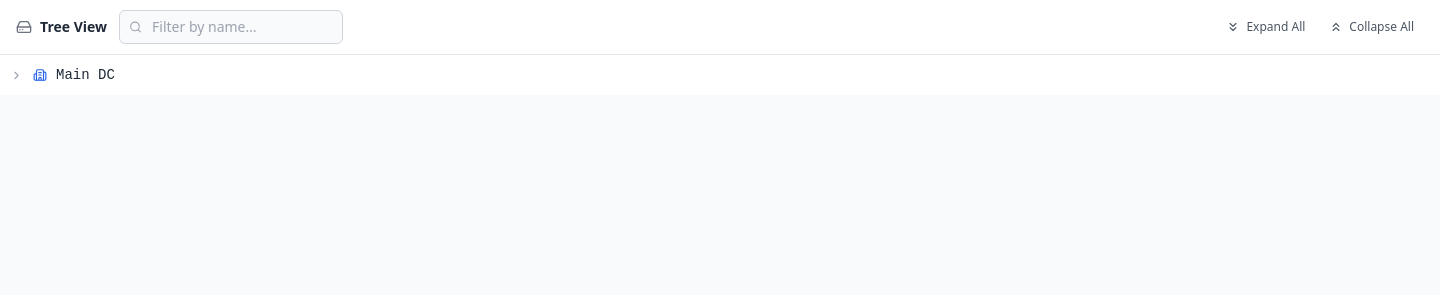
Test: TreeView page › lazy-loads interfaces and VMs when a server device is expanded
expect the text "Main DC" is shown: met, box [56, 67, 115, 83]
Click the button named "Expand" at (16, 75), box [6, 65, 26, 85]
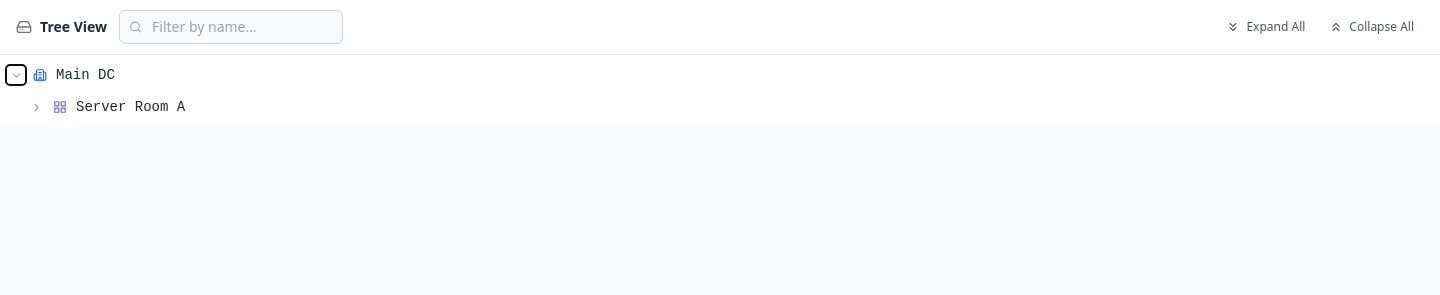
expect the text "Server Room A" is shown: met, box [76, 99, 185, 115]
Click the button named "Expand" at (36, 107), box [26, 97, 46, 117]
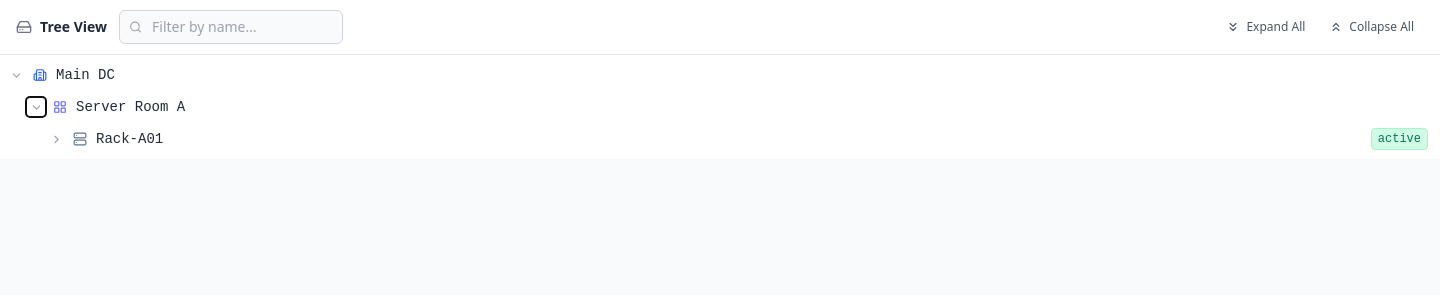
expect the text "Rack-A01" is shown: met, box [96, 131, 163, 147]
Click the button named "Expand" at (56, 139), box [46, 129, 66, 149]
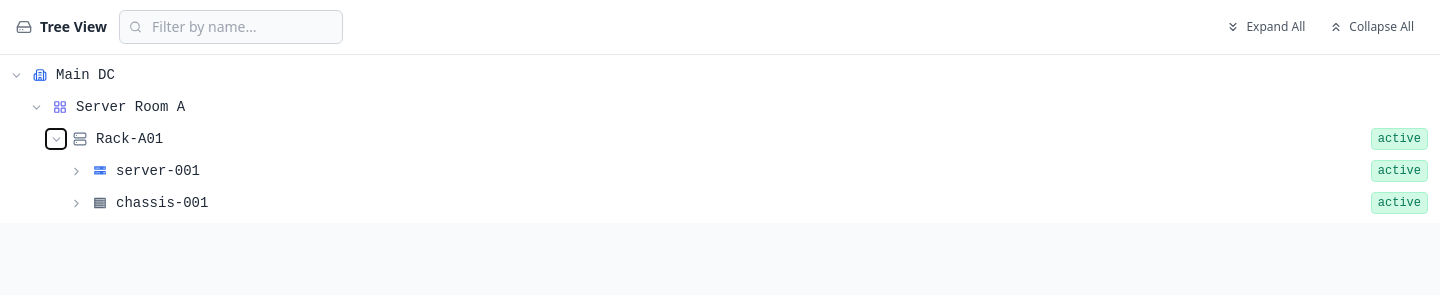
expect the text "server-001" is shown: met, box [116, 163, 200, 179]
Click the button named "Expand" next to "server-001" at (76, 171), box [66, 161, 86, 181]
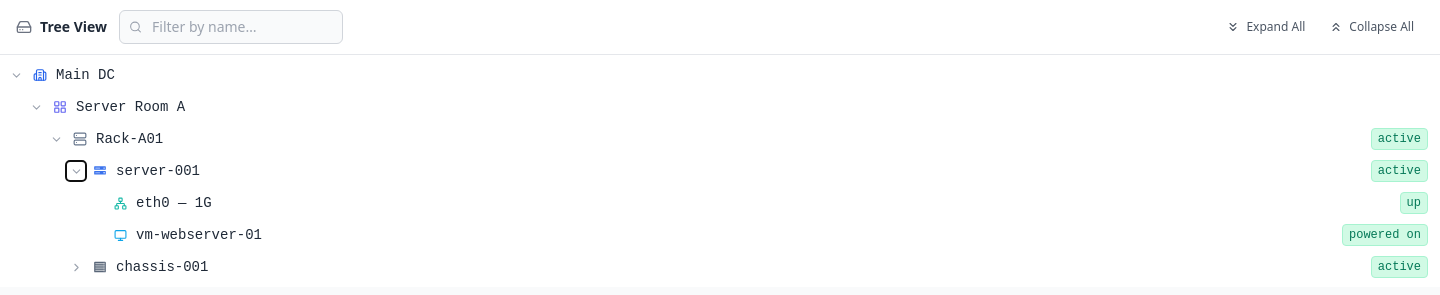
expect the text "eth0 — 1G" is shown: met, box [136, 195, 212, 211]
expect the text "vm-webserver-01" is shown: met, box [136, 227, 262, 243]
